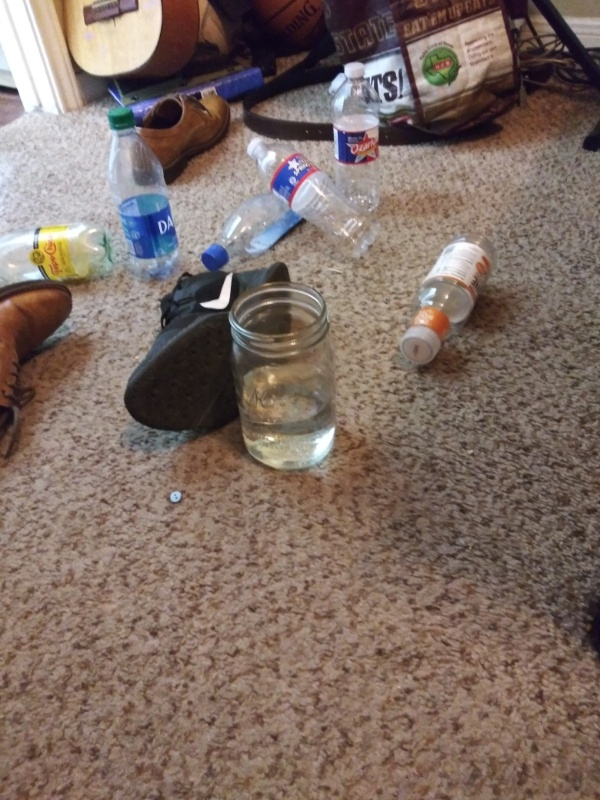bottle: (241, 132, 382, 262), (97, 100, 192, 281), (194, 162, 331, 274), (392, 230, 499, 369), (322, 58, 387, 211), (1, 219, 111, 285)
